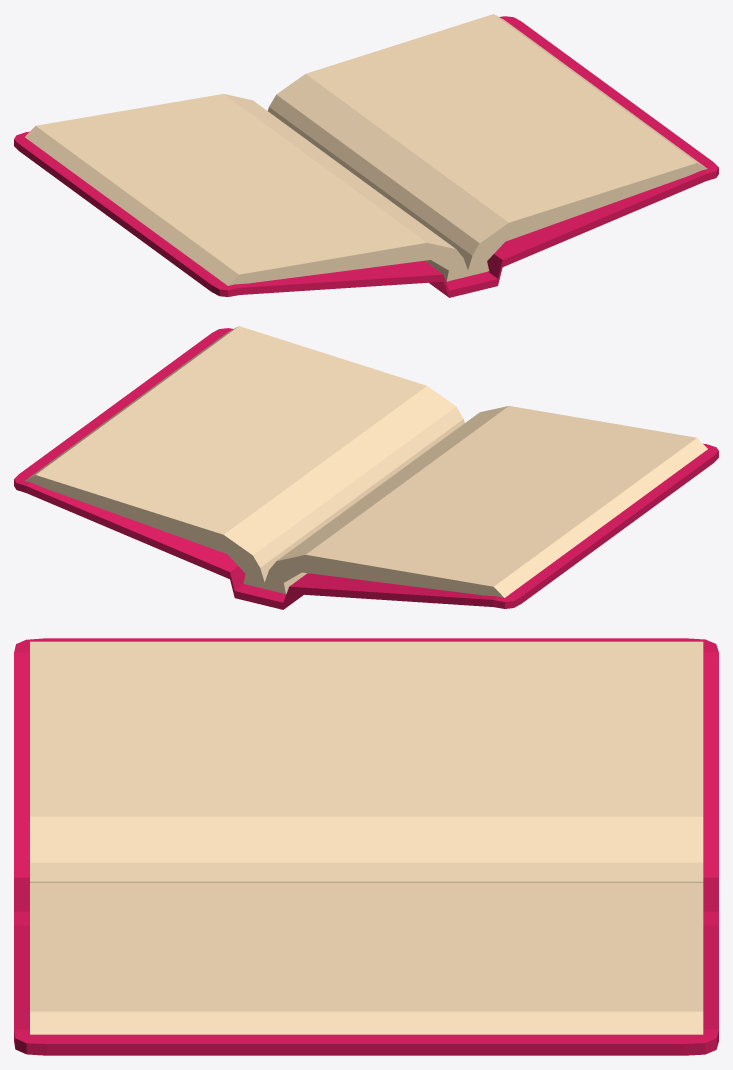
File: 打开的书.fbx
3 renders of one model, top to bottom at view 1: azimuth 30°, elevation 25°; view 2: azimuth 150°, elevation 25°; view 3: azimuth 270°, elevation 25°, orthographic. The views are drawn at different scales.
Parts seen in each view (by area): view 1: 书皮; view 2: 书皮; view 3: 书皮.
Boxes of the visible parts, left/top/right/bottom form: 书皮: left=14, top=14, right=718, bottom=297; 书皮: left=14, top=326, right=718, bottom=609; 书皮: left=14, top=638, right=718, bottom=1055.
Bounding box in the file's own units: 3453 × 459 × 2536.
